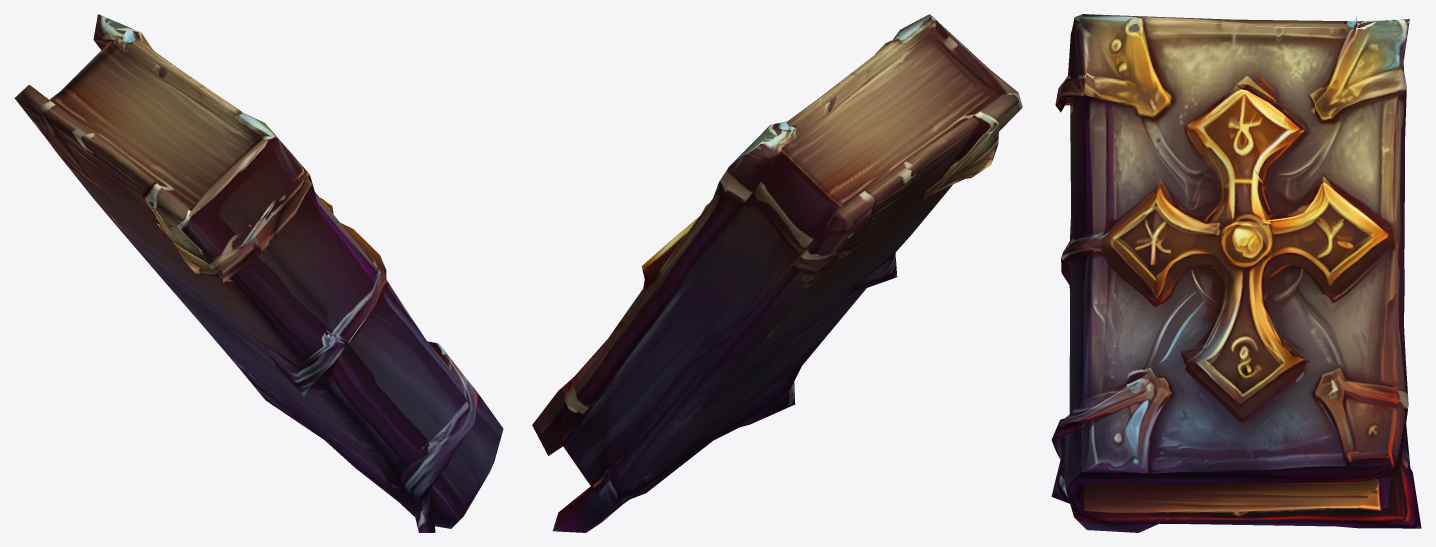
The model's file is enchanted+book+3d+model.fbx.
3 views of the same model, side by side, from view 1: azimuth 30°, elevation 25°; view 2: azimuth 150°, elevation 25°; view 3: azimuth 270°, elevation 25° (orthographic). The views are drawn at different scales.
Parts seen in each view (by area): view 1: tripo_node_b96c90f6; view 2: tripo_node_b96c90f6; view 3: tripo_node_b96c90f6.
Boxes of the visible parts, bbox=[...] form: tripo_node_b96c90f6: bbox=[14, 14, 503, 532]; tripo_node_b96c90f6: bbox=[532, 14, 1022, 532]; tripo_node_b96c90f6: bbox=[1051, 14, 1421, 532].
Bounding box in the file's own units: 0.7601 × 0.9737 × 0.7649.
1 material, 1 textured.
